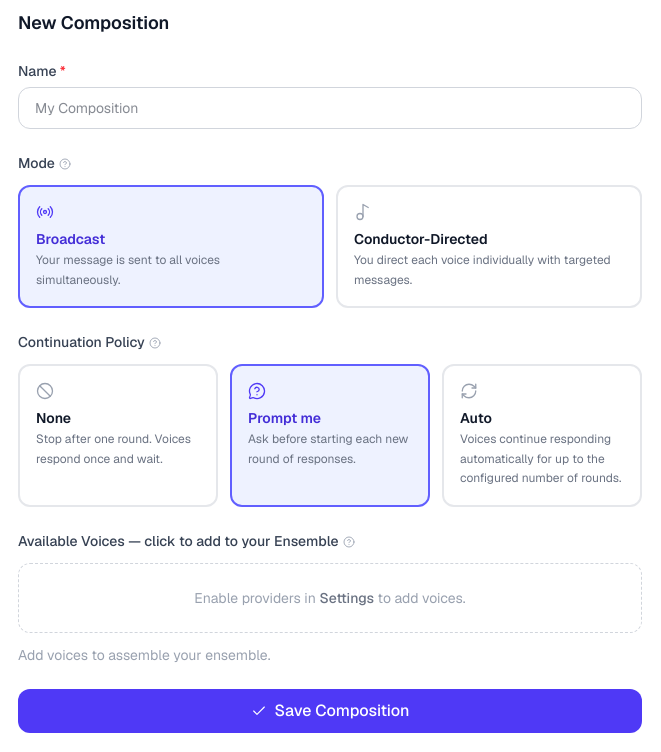
Test: CompositionBuilder › shows validation error when Save clicked with no voices
Type "Test Comp" into the field with placeholder "My Composition" at (330, 108), box x1=18 y1=87 x2=642 y2=129
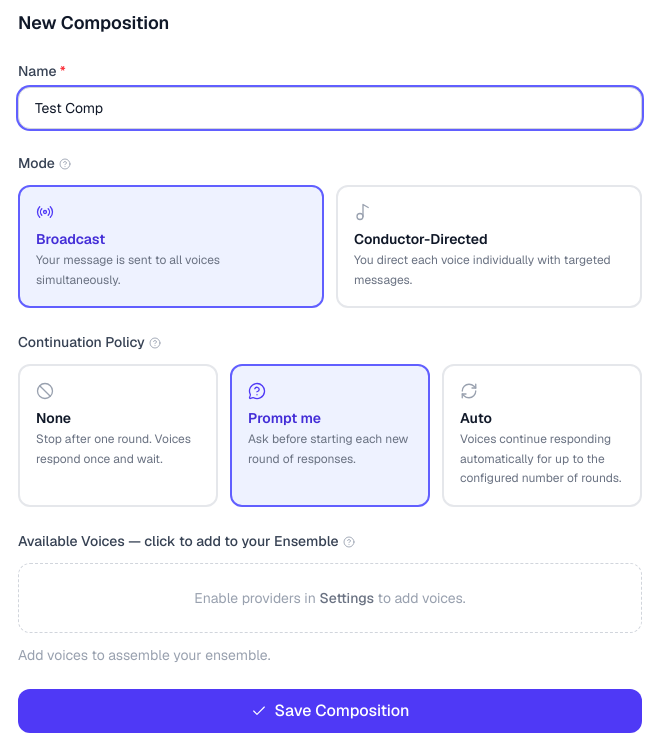
Click the button "Save Composition" at (330, 710), box x1=18 y1=688 x2=642 y2=732
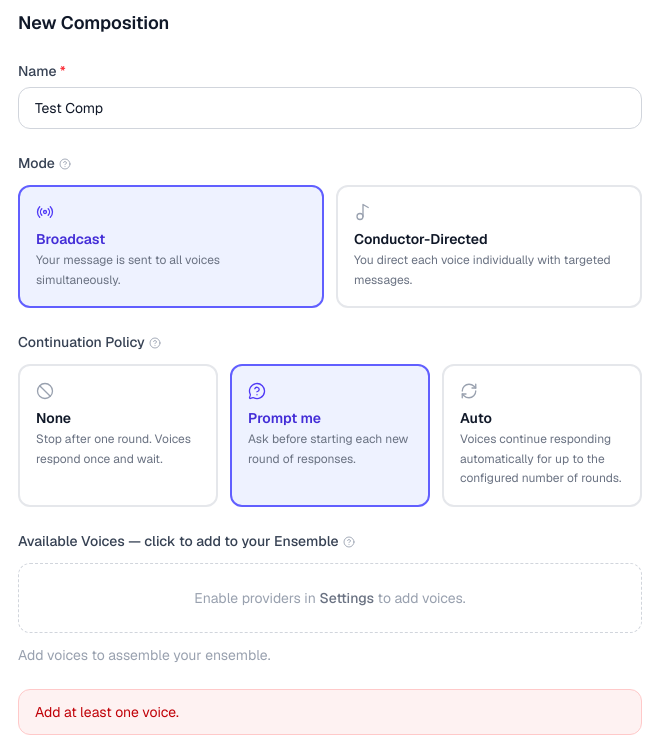
Expected: the text "Add at least one voice." is shown, x1=18 y1=688 x2=642 y2=734
